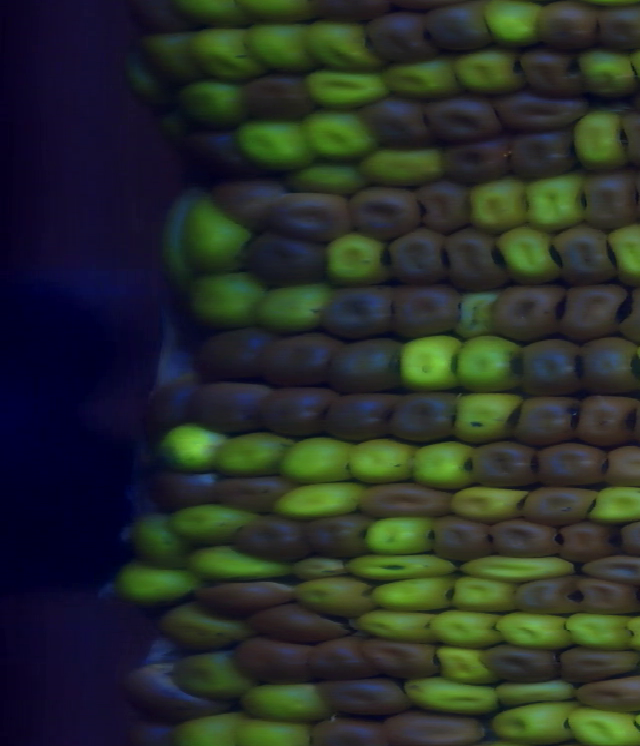fluorescent: (183, 199, 250, 269), (189, 269, 262, 329), (252, 284, 328, 334), (158, 600, 238, 645), (456, 337, 518, 394), (191, 542, 278, 582), (574, 109, 628, 173), (498, 226, 558, 283), (236, 117, 307, 165), (280, 437, 351, 485), (400, 336, 459, 393), (408, 676, 494, 715), (171, 501, 247, 545), (454, 392, 518, 444), (196, 27, 255, 83), (131, 516, 188, 573), (524, 173, 583, 228), (413, 438, 473, 492), (176, 654, 246, 700), (243, 22, 310, 70), (489, 706, 569, 746), (306, 22, 374, 69), (468, 177, 528, 230), (360, 147, 440, 186), (343, 556, 456, 583), (368, 575, 457, 609), (326, 236, 389, 284), (295, 574, 368, 615), (459, 48, 521, 96), (119, 562, 193, 602), (161, 423, 219, 472), (311, 67, 382, 107), (305, 112, 371, 155), (216, 436, 290, 474), (276, 478, 354, 514), (566, 707, 639, 745), (466, 555, 570, 581), (384, 58, 455, 96), (251, 680, 320, 719), (352, 438, 414, 481), (449, 485, 521, 522), (366, 518, 436, 556), (581, 50, 637, 96), (498, 613, 568, 649), (289, 163, 361, 197), (452, 574, 515, 612), (431, 609, 499, 644), (150, 31, 195, 83), (438, 645, 493, 687), (566, 611, 628, 648), (185, 84, 242, 124), (353, 612, 428, 642), (176, 712, 239, 746), (486, 4, 538, 43), (588, 486, 640, 524), (493, 683, 574, 706), (607, 225, 640, 281), (163, 199, 185, 277), (239, 721, 307, 746), (125, 55, 162, 99)
nonfluorescent: (438, 225, 508, 290), (187, 382, 268, 432), (495, 280, 561, 341), (272, 190, 349, 242), (391, 286, 465, 339), (193, 583, 293, 621), (247, 234, 318, 287), (263, 335, 334, 388), (253, 602, 352, 640), (550, 224, 618, 279), (580, 334, 639, 397), (322, 286, 392, 338), (198, 325, 263, 381), (496, 90, 582, 132), (391, 392, 456, 447), (363, 97, 429, 151), (518, 337, 579, 395), (320, 677, 408, 717), (349, 187, 418, 238), (533, 442, 610, 487), (233, 515, 310, 560), (259, 387, 331, 435), (362, 477, 444, 519), (210, 179, 277, 230), (560, 282, 623, 336), (427, 94, 500, 139), (235, 640, 309, 684), (393, 231, 450, 288), (340, 333, 397, 390), (365, 13, 431, 60), (159, 466, 226, 512), (331, 390, 391, 440), (487, 518, 558, 559), (468, 443, 534, 487), (244, 71, 307, 117), (425, 7, 489, 52), (525, 482, 588, 527), (579, 171, 633, 223), (533, 3, 595, 48), (221, 474, 292, 513), (576, 391, 628, 444), (507, 136, 575, 176), (440, 141, 506, 182), (415, 180, 468, 231), (513, 395, 573, 440), (518, 578, 582, 618), (392, 713, 480, 742), (435, 515, 488, 563), (308, 642, 370, 683), (575, 675, 640, 713), (311, 715, 390, 746), (557, 651, 640, 680), (307, 522, 368, 561), (143, 387, 187, 441), (366, 639, 432, 675), (483, 643, 557, 675), (189, 131, 238, 178), (574, 577, 635, 613), (593, 2, 640, 48), (583, 555, 640, 592), (563, 520, 615, 560), (522, 49, 570, 87), (609, 446, 640, 487)
